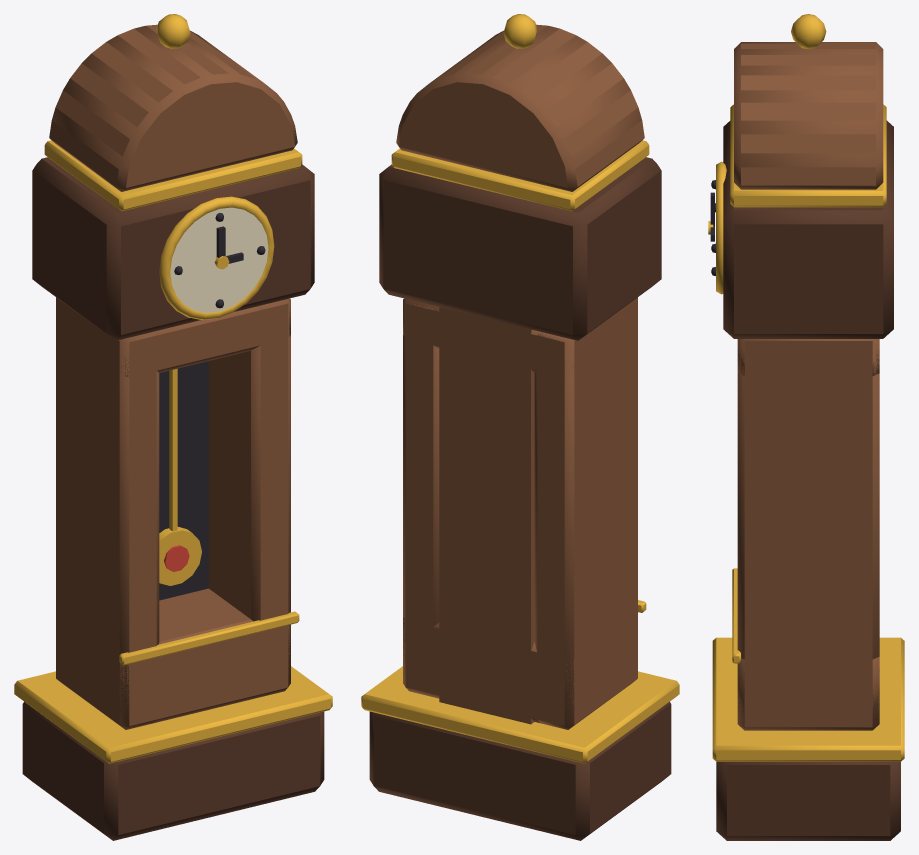
Rendered from grandfather_clock.glb.
The picture shows the model from 3 angles, left to right: view 1: azimuth 30°, elevation 25°; view 2: azimuth 150°, elevation 25°; view 3: azimuth 270°, elevation 25°; orthographic projection.
Parts seen in each view (by area): view 1: grandfather_clock, Pendulum; view 2: grandfather_clock; view 3: grandfather_clock.
Boxes of the visible parts, x1,y1,x2,y2 form: grandfather_clock: (14, 14, 332, 840); Pendulum: (159, 368, 201, 585); grandfather_clock: (361, 14, 679, 840); grandfather_clock: (708, 14, 904, 840).
Bounding box in the file's own units: 0.74 × 2.41 × 0.552.
